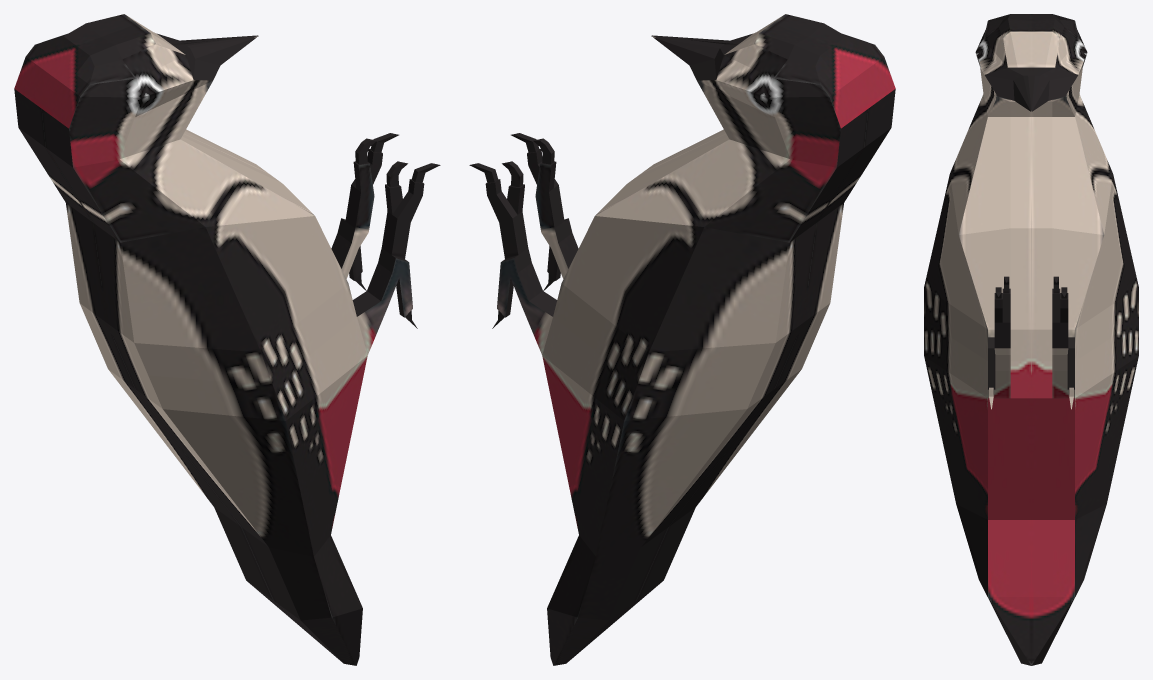
Rendered from genys.glb.
The picture shows the model from 3 angles, left to right: view 1: azimuth 30°, elevation 25°; view 2: azimuth 150°, elevation 25°; view 3: azimuth 270°, elevation 25°; orthographic projection. The views are drawn at different scales.
Parts seen in each view (by area): view 1: Plane; view 2: Plane; view 3: Plane.
Part boxes in pixels (x1,y1,x2,y2): Plane: (14, 14, 440, 665); Plane: (469, 14, 895, 665); Plane: (924, 14, 1138, 665).
Size of the model in its own units: 4.98 by 8.68 by 3.07.
Materials: 1 (1 with a texture image).
